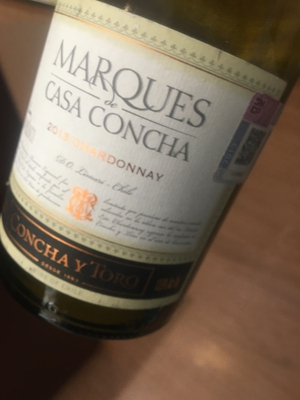marques de casa concha chardonnay: (12, 2, 291, 331)
